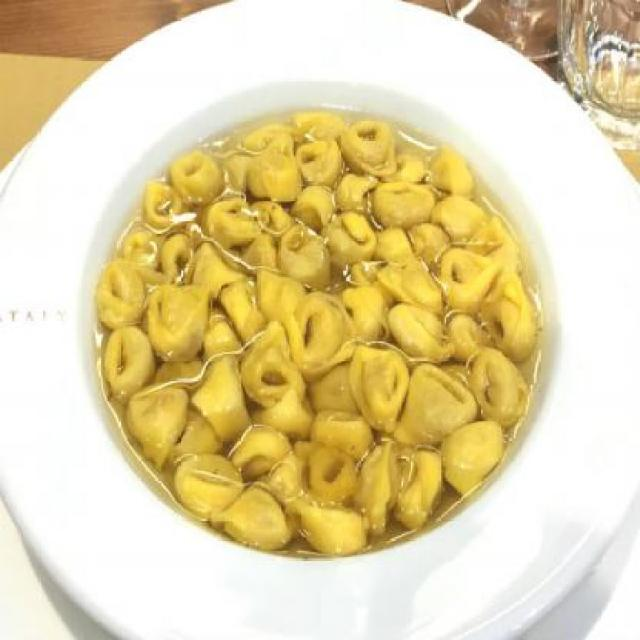Tortellini in broth: (103, 94, 549, 538)
